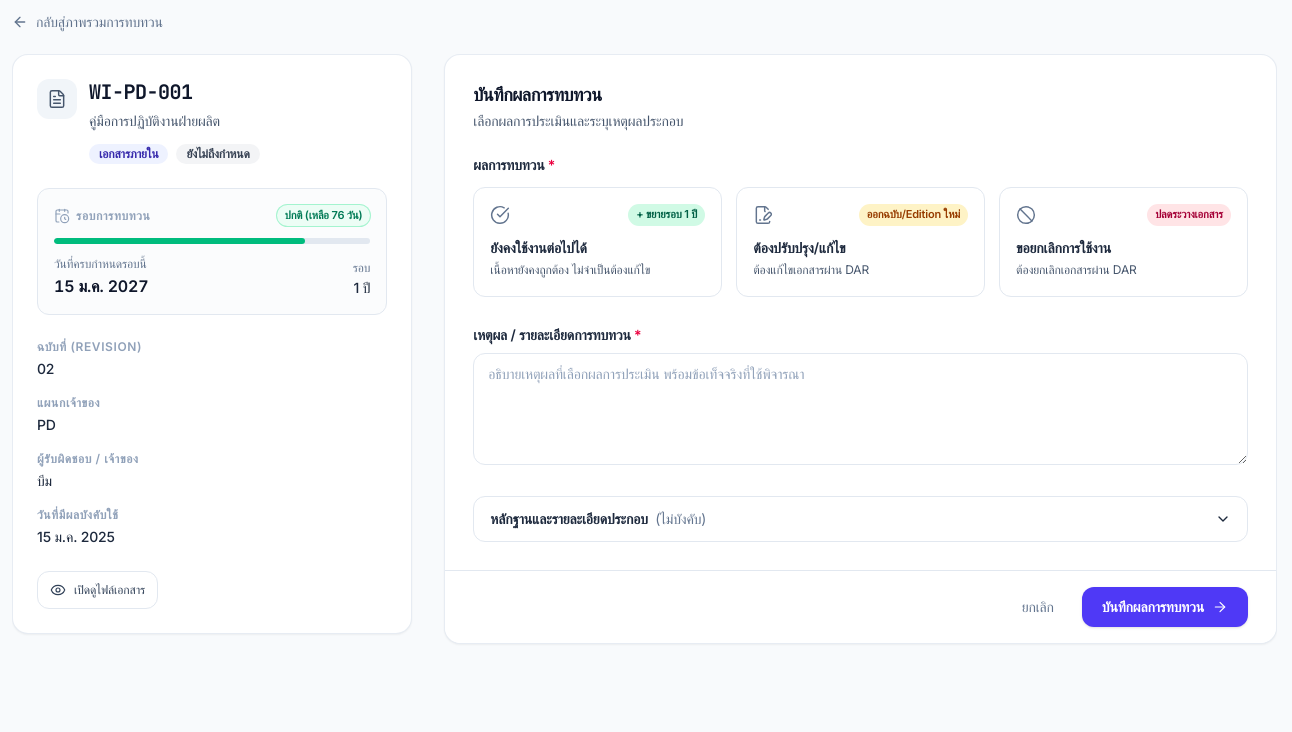
PeriodicReviewDetail - Two-Column Layout & Compact UI › renders 3 outcome cards with icons and active styles on selection
Expected: the heading "บันทึกผลการทบทวน" is shown, [473,84,602,105]
Expected: the text "ต้องปรับปรุง/แก้ไข" is shown, [753,239,845,256]
Click "ไม่มีการเปลี่ยนแปลง"
Click the text "ยังคงใช้งานต่อไปได้" at (539, 247), box [490,239,587,256]
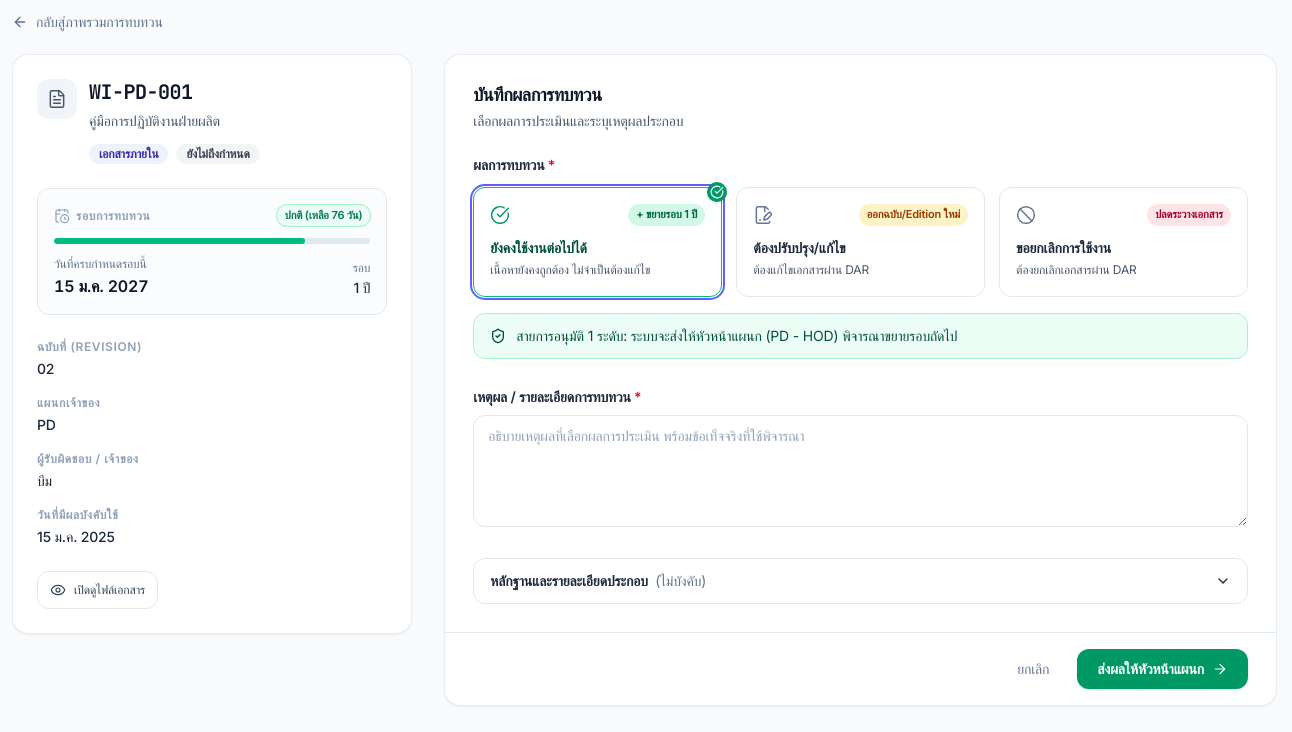
Expected: the radio button labelled "ยังคงใช้งานต่อไปได้" is checked, [473,187,722,297]
Switch to "ต้องแก้ไขเอกสาร"
Click the text "ต้องปรับปรุง/แก้ไข" at (799, 247), box [753,239,845,256]
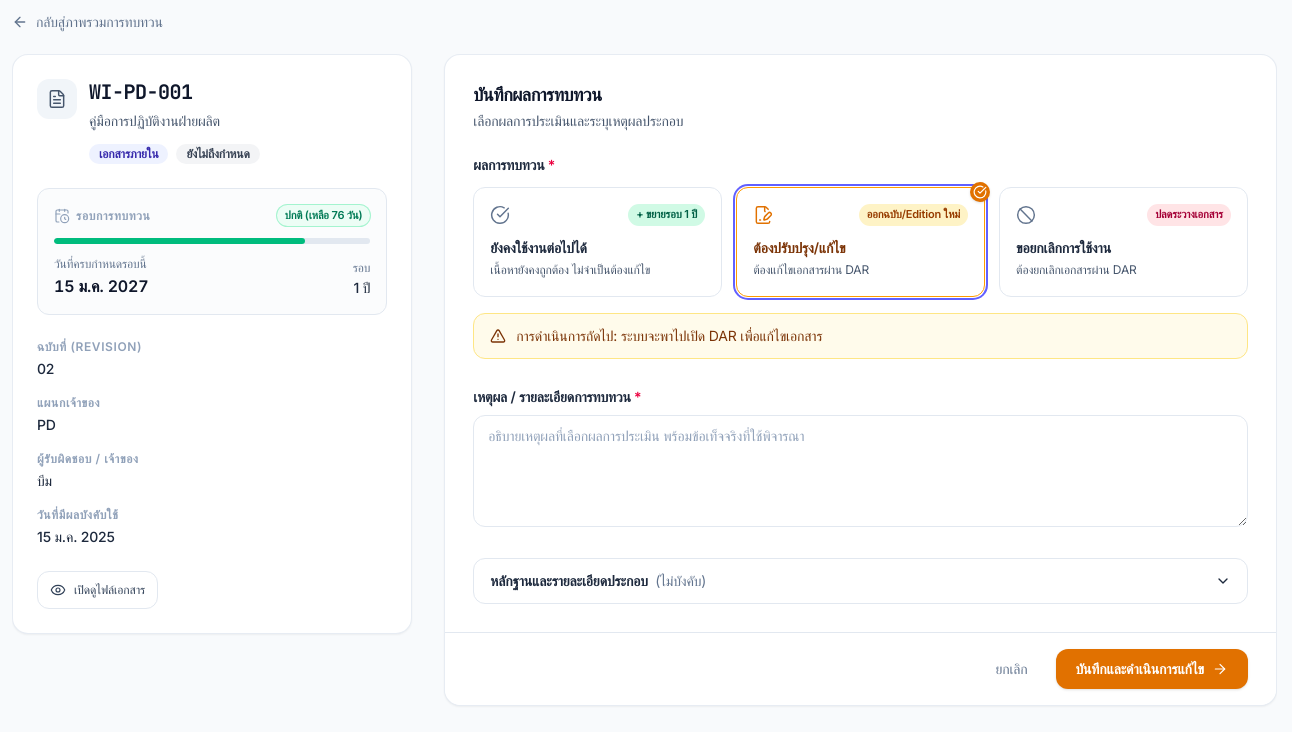
Expected: the radio button labelled "ต้องปรับปรุง/แก้ไข" is checked, [736,187,985,297]
Expected: the radio button labelled "ยังคงใช้งานต่อไปได้" is not checked, [473,187,722,297]
